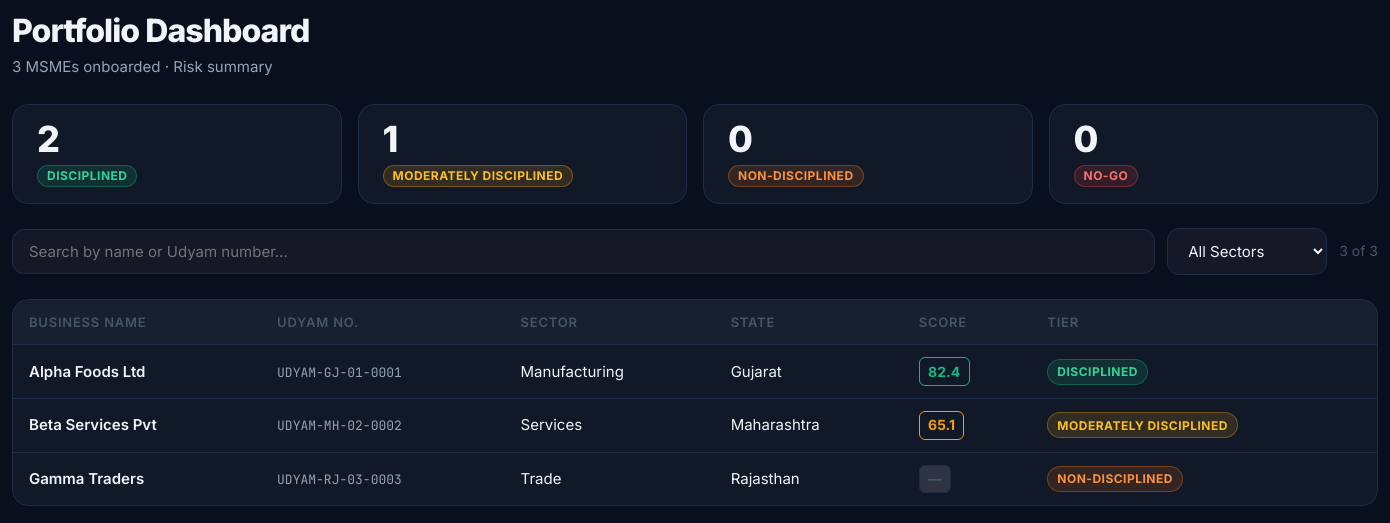
Test case: DashboardPage › shows empty state message when no results match
Check: the text "Alpha Foods Ltd" is shown, box x1=13 y1=345 x2=261 y2=399
Type "xyznonexistent" into the search field at {"x": 584, "y": 251}, box x1=12 y1=229 x2=1155 y2=274
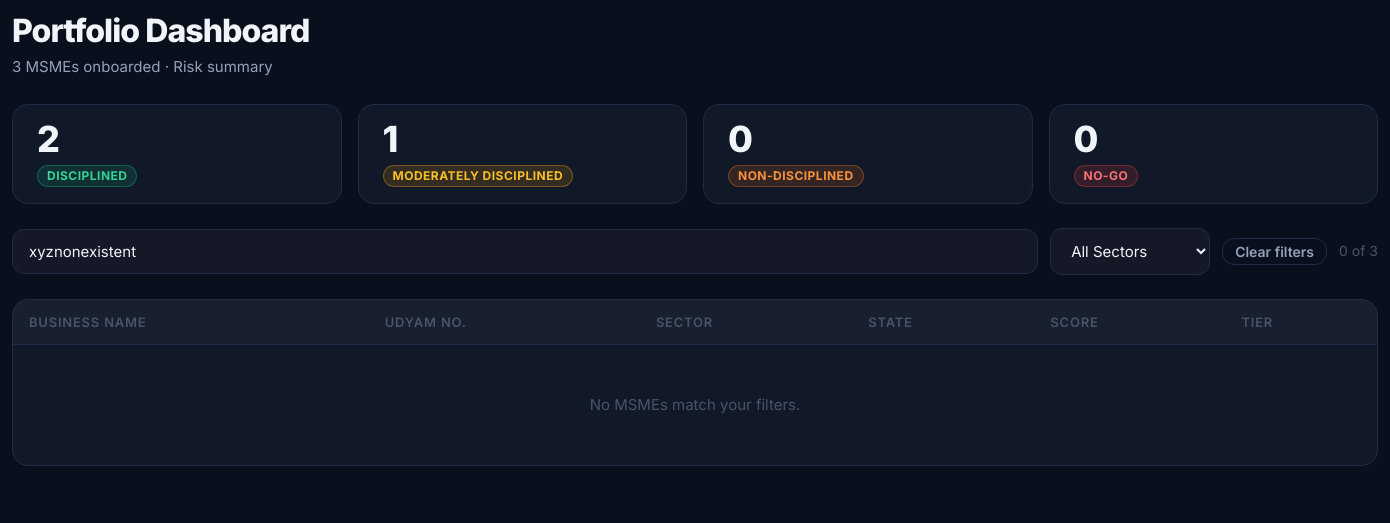
Check: the text "No MSMEs match your filters." is shown, box x1=13 y1=345 x2=1377 y2=466
